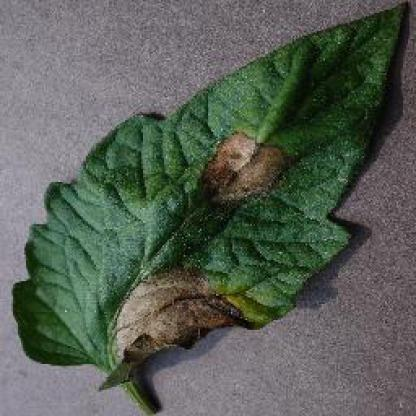bad leaf: (13, 2, 411, 405)
